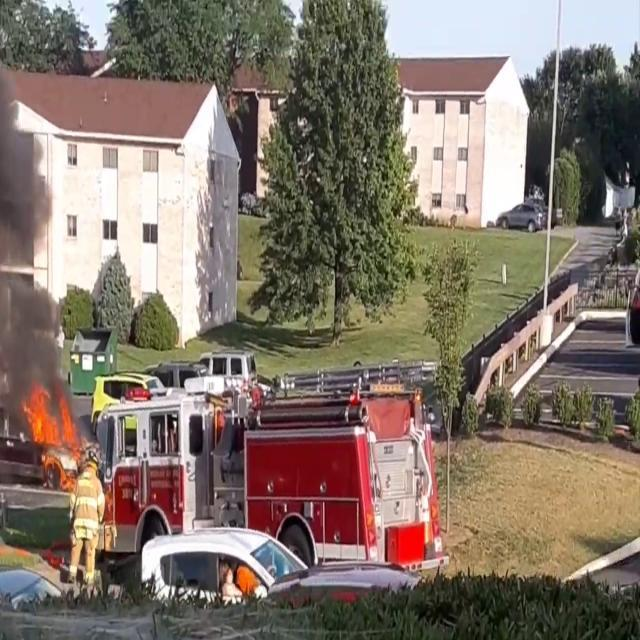Fire: (26, 385, 114, 587), (21, 383, 81, 477)
Smoke: (0, 0, 68, 415)
